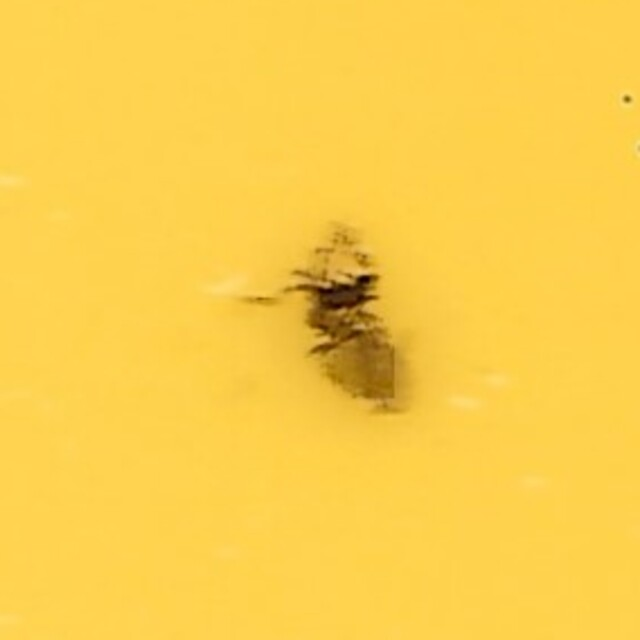Nematocera: (225, 224, 415, 416)
